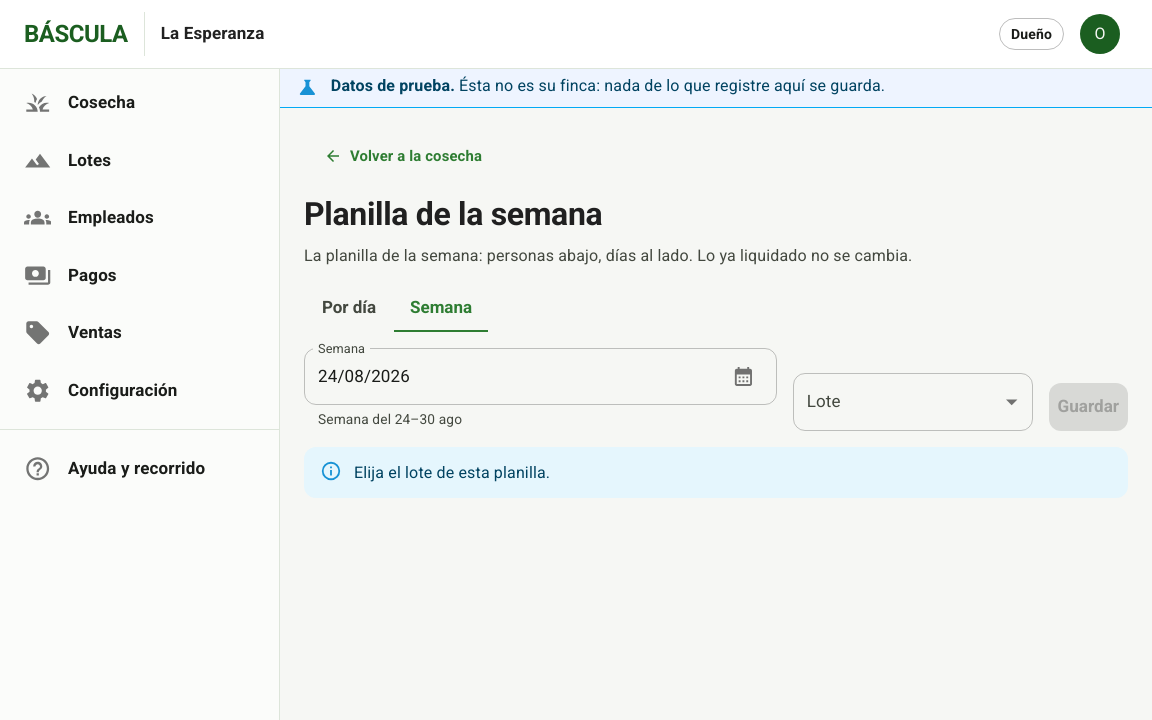
Scenario: Planilla edges › asks for the lote first, then shows its sheet
Expected: the text "Elija el lote de esta planilla." is shown, [354,463,550,482]
Expected: the button "Guardar" is disabled, [1049,383,1128,431]
Click the dropdown named "Lote" at (913, 402), box [793,373,1033,431]
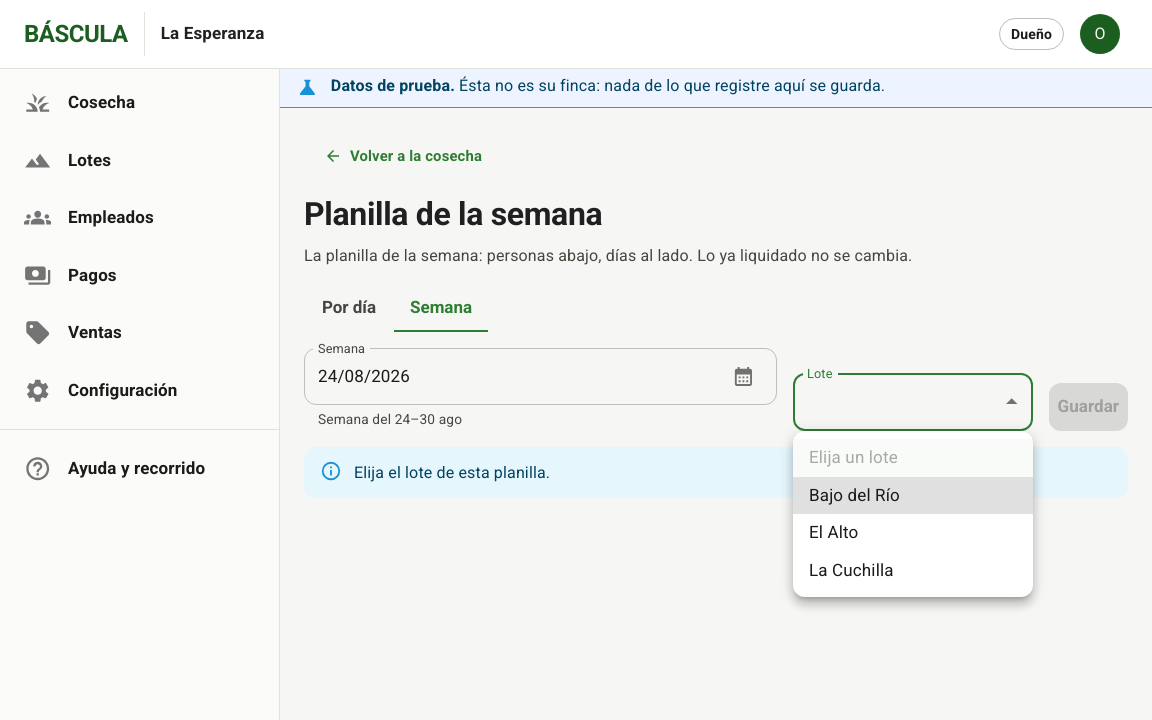
Click the option "El Alto" at (834, 532), box [809,522,858,542]
(page scrolled)
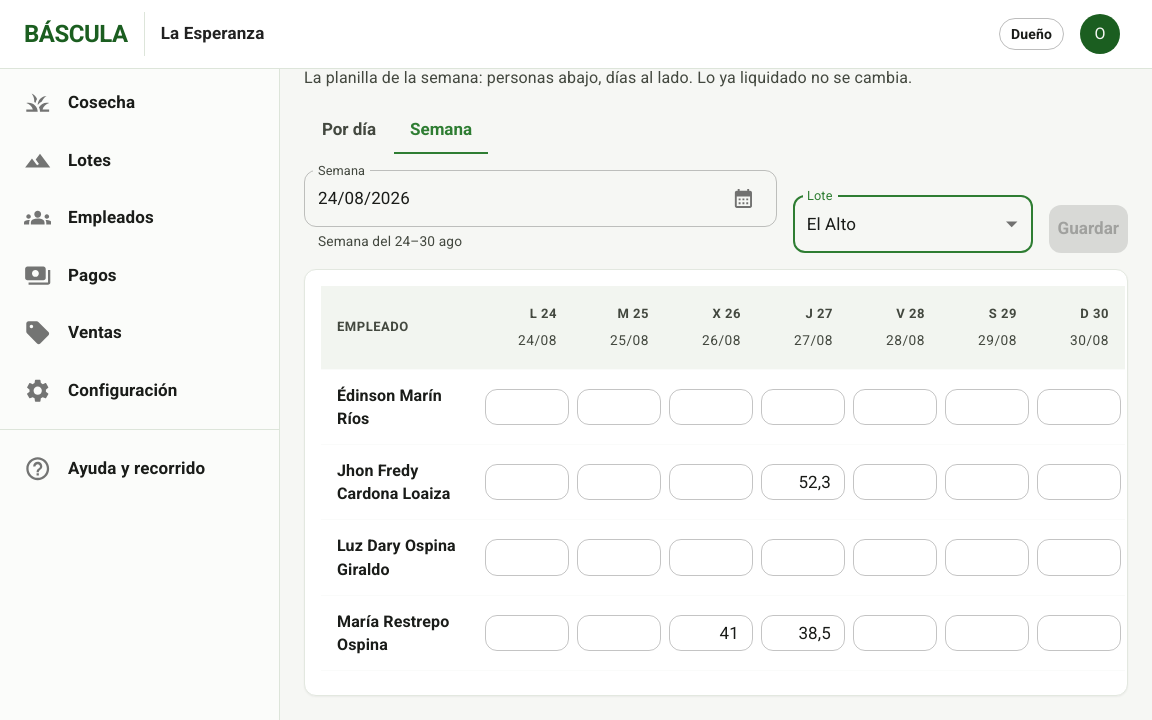
Now the field named "María Restrepo Ospina, L 24" is shown, box [485,615,569,651]
